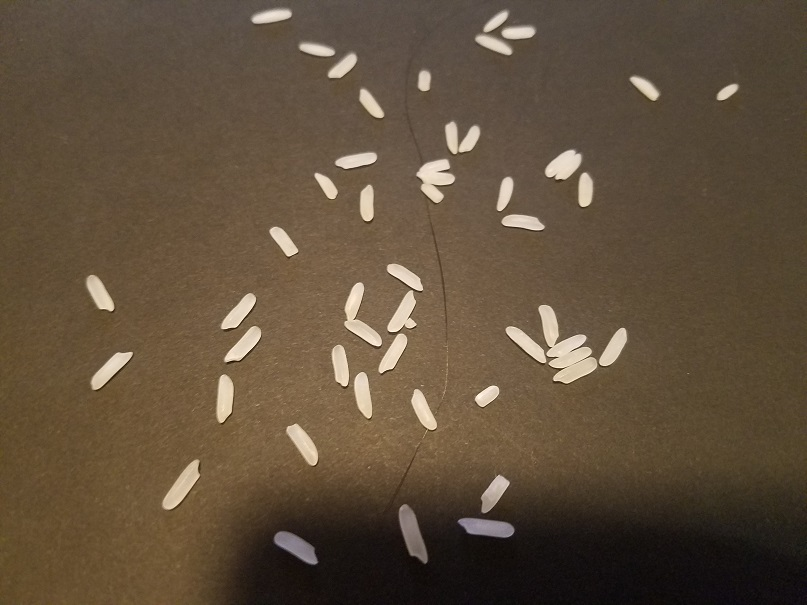egg: (162, 456, 206, 512), (397, 502, 430, 567), (89, 348, 133, 394), (284, 422, 323, 470), (271, 528, 318, 567), (224, 322, 264, 367), (384, 289, 421, 334), (507, 326, 547, 366), (376, 332, 410, 379), (220, 288, 255, 333), (551, 356, 597, 389), (409, 387, 439, 434), (476, 474, 511, 514), (598, 327, 630, 370), (455, 515, 517, 537), (85, 271, 116, 314), (342, 316, 385, 347), (383, 259, 424, 291), (544, 331, 589, 360), (536, 299, 562, 348), (542, 143, 575, 181), (545, 348, 595, 372), (268, 225, 302, 258), (342, 281, 368, 324), (215, 370, 235, 425), (473, 34, 517, 58), (327, 49, 358, 83), (498, 212, 548, 233), (331, 149, 381, 170), (357, 87, 387, 122), (329, 343, 351, 388), (628, 73, 662, 102), (553, 153, 585, 182), (352, 369, 371, 417), (493, 172, 514, 215), (296, 39, 341, 59), (311, 171, 339, 203), (457, 122, 481, 158), (359, 180, 377, 227), (473, 383, 502, 412), (252, 5, 291, 26), (482, 6, 510, 34), (414, 170, 460, 187), (498, 25, 542, 42), (419, 181, 447, 207), (576, 172, 594, 209), (715, 81, 742, 104), (442, 117, 459, 153), (415, 67, 435, 96), (420, 158, 453, 172)
